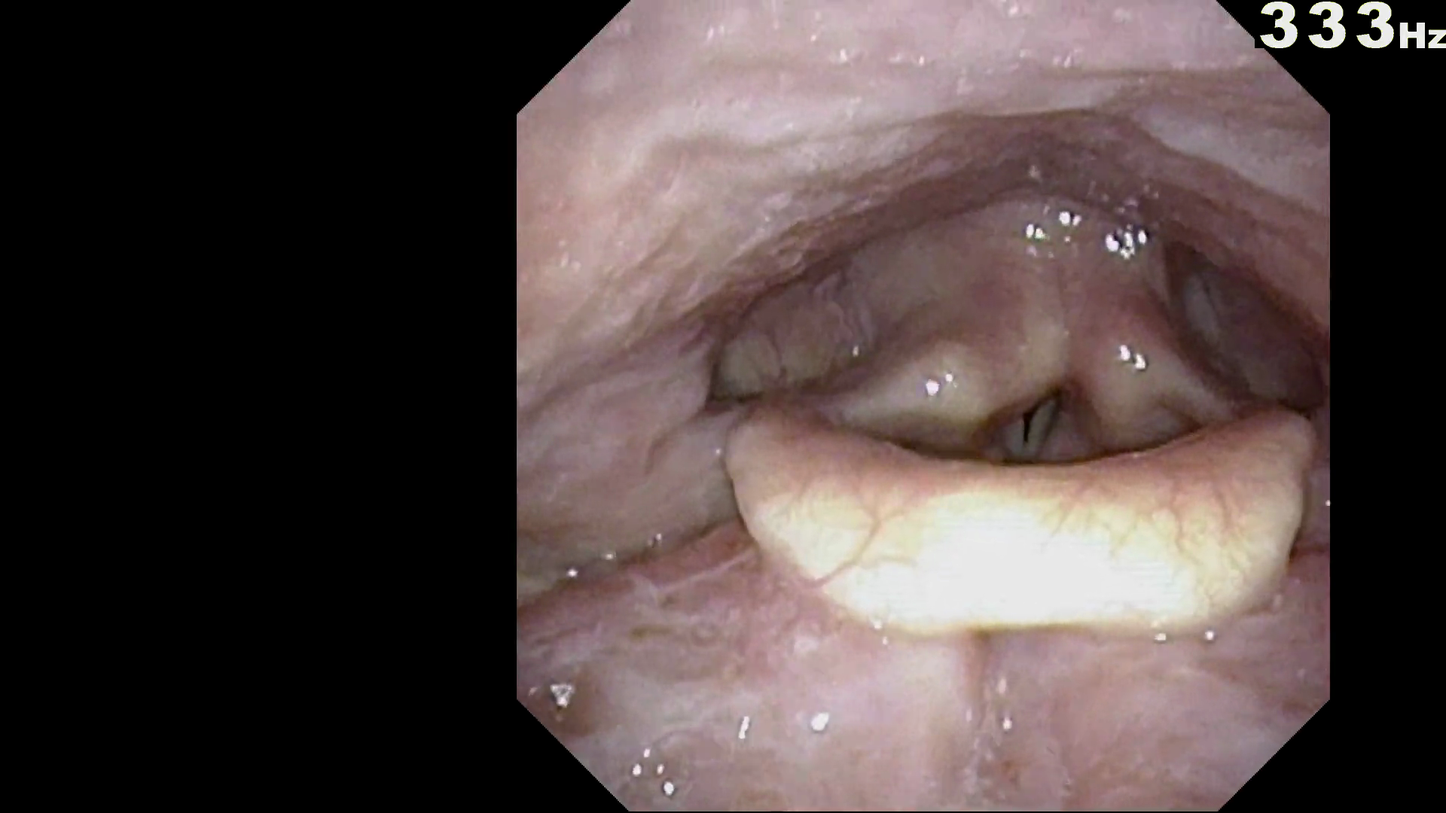epiglottis: (710, 393, 1315, 653)
trachea: (980, 376, 1077, 495)
